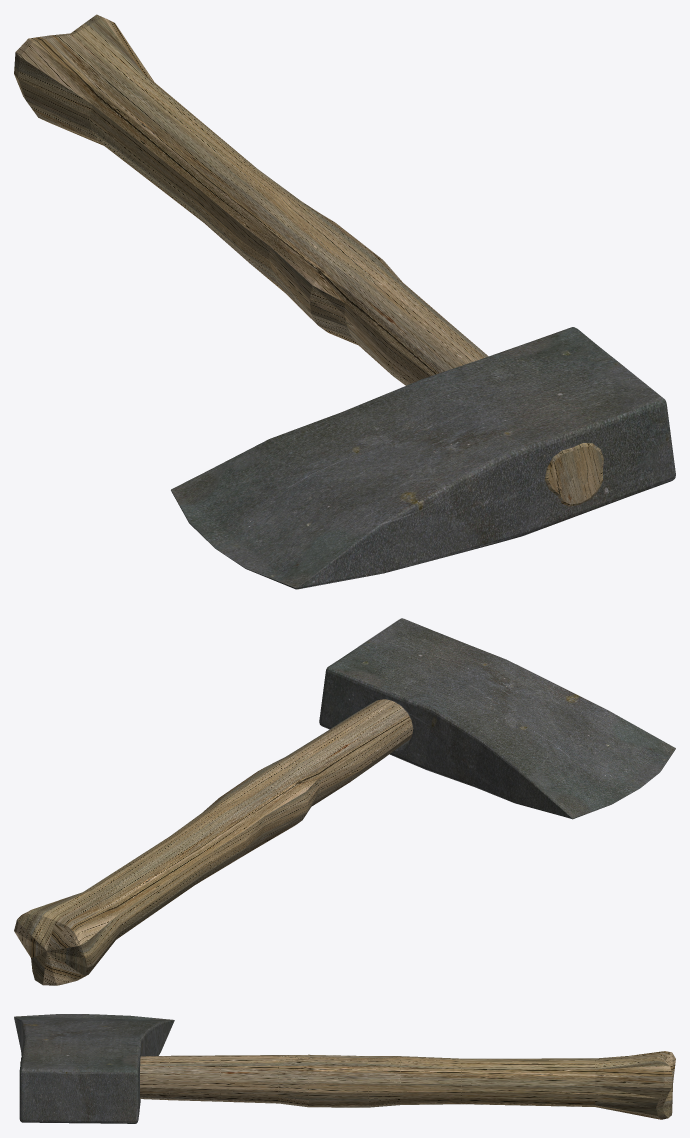
Rendered from Axe_OBJ.obj.
3 views of the same model, one above another, from view 1: azimuth 30°, elevation 25°; view 2: azimuth 150°, elevation 25°; view 3: azimuth 270°, elevation 25° (orthographic). The views are drawn at different scales.
Parts seen in each view (by area): view 1: Object.1; view 2: Object.1; view 3: Object.1.
Boxes of the visible parts, x1,y1,x2,y2 form: Object.1: [14, 14, 675, 589]; Object.1: [14, 618, 675, 985]; Object.1: [14, 1014, 675, 1123].
Size of the model in its own units: 41.81 by 10.65 by 98.21.
